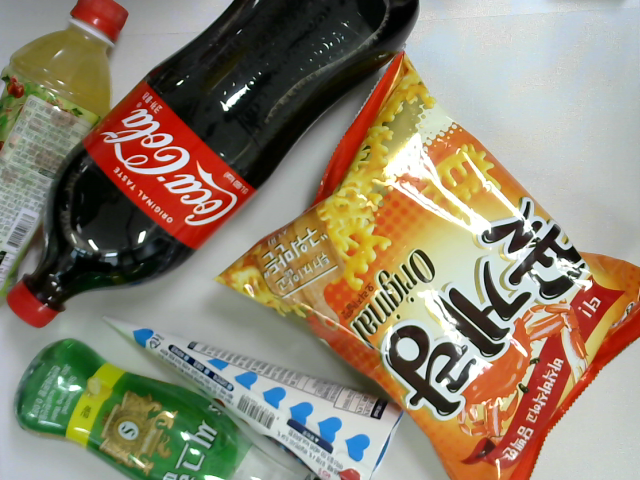Bravo_Cone_(Banila)_CVS: (100, 307, 410, 480)
Coca_Cola_1.5L: (1, 1, 434, 332)
Crabrang: (210, 45, 640, 476)
Morning_Apple_500ml: (1, 1, 132, 319)
Seagram_Lemon_Carbonated_Water: (10, 336, 330, 480)
